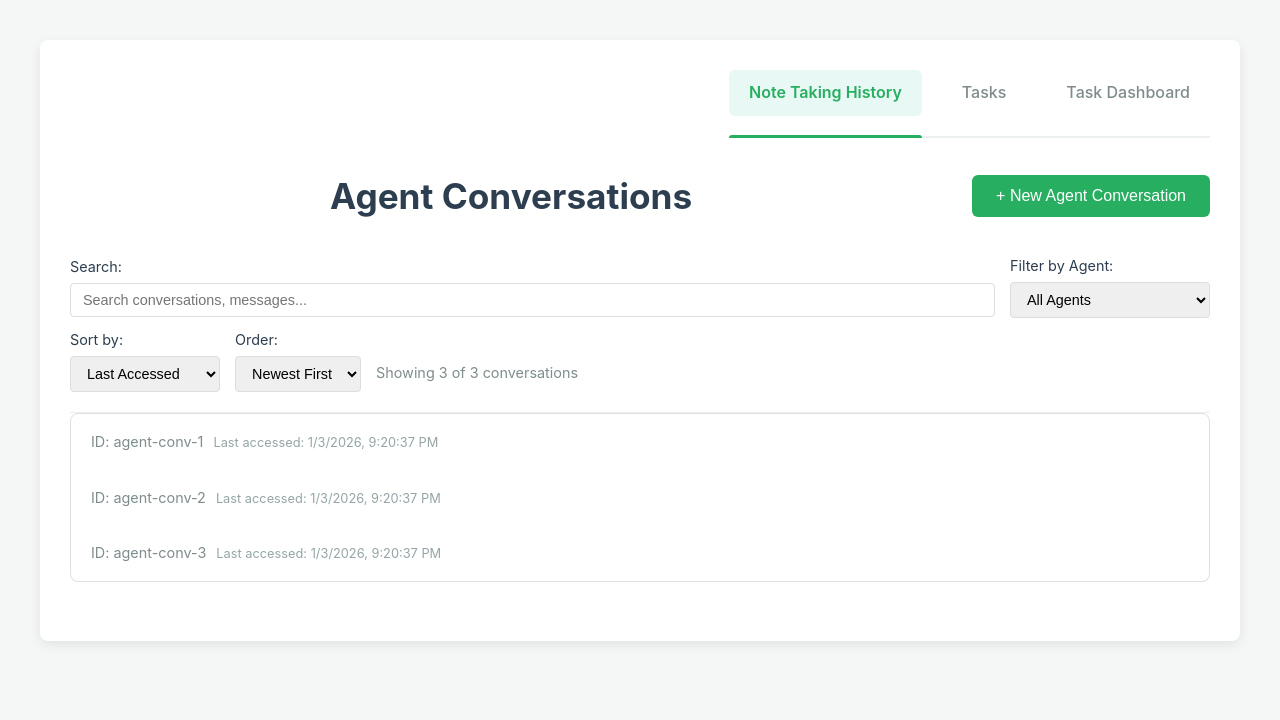
Test: AgentConversationListView › Filtering › Agent dropdown filtering › filters conversations by agentId when agent is selected
The width and height of the screenshot is (1280, 720).
Expected: the text "ID: agent-conv-1" is shown, 91,433 -> 203,450
Expected: the text "ID: agent-conv-2" is shown, 91,489 -> 206,506
// Select agent-A from dropdown
Select "agent-A" in the dropdown labelled "Filter by Agent:" at (1110,300), box 1010,282 -> 1210,318
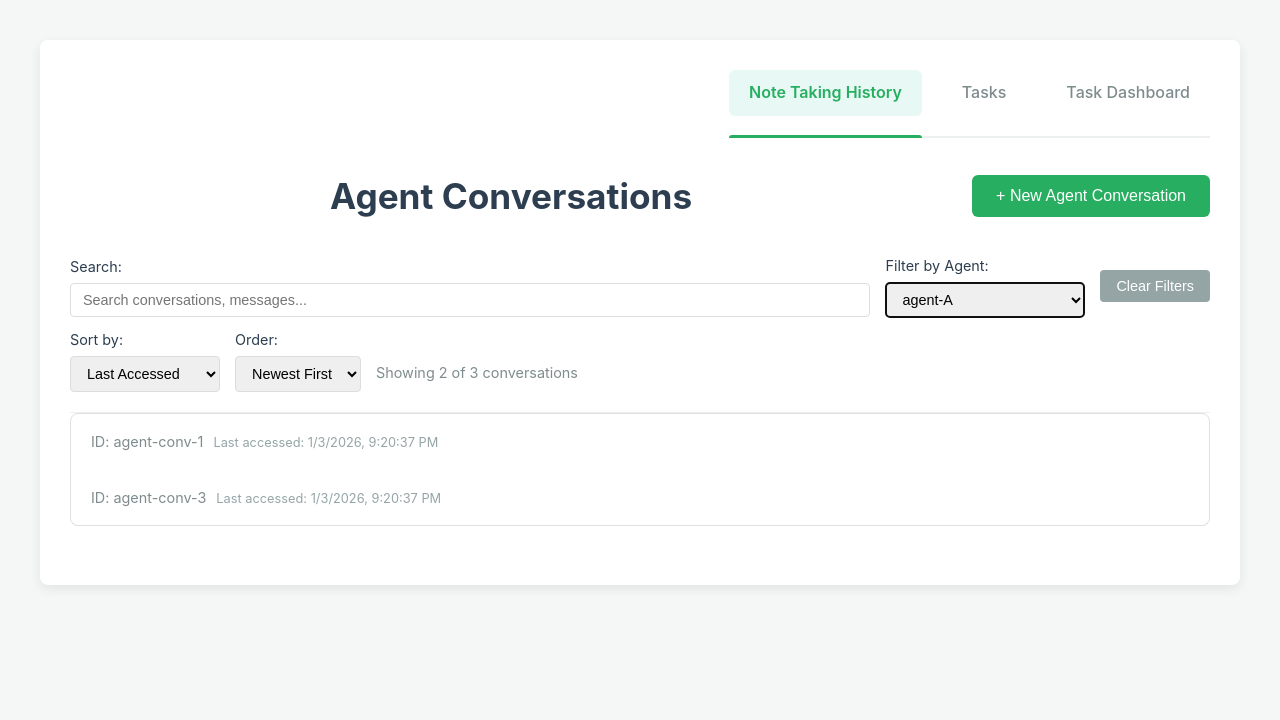
Expected: the text "ID: agent-conv-1" is shown, 91,433 -> 203,450
Expected: the link "ID: agent-conv-2" is gone
